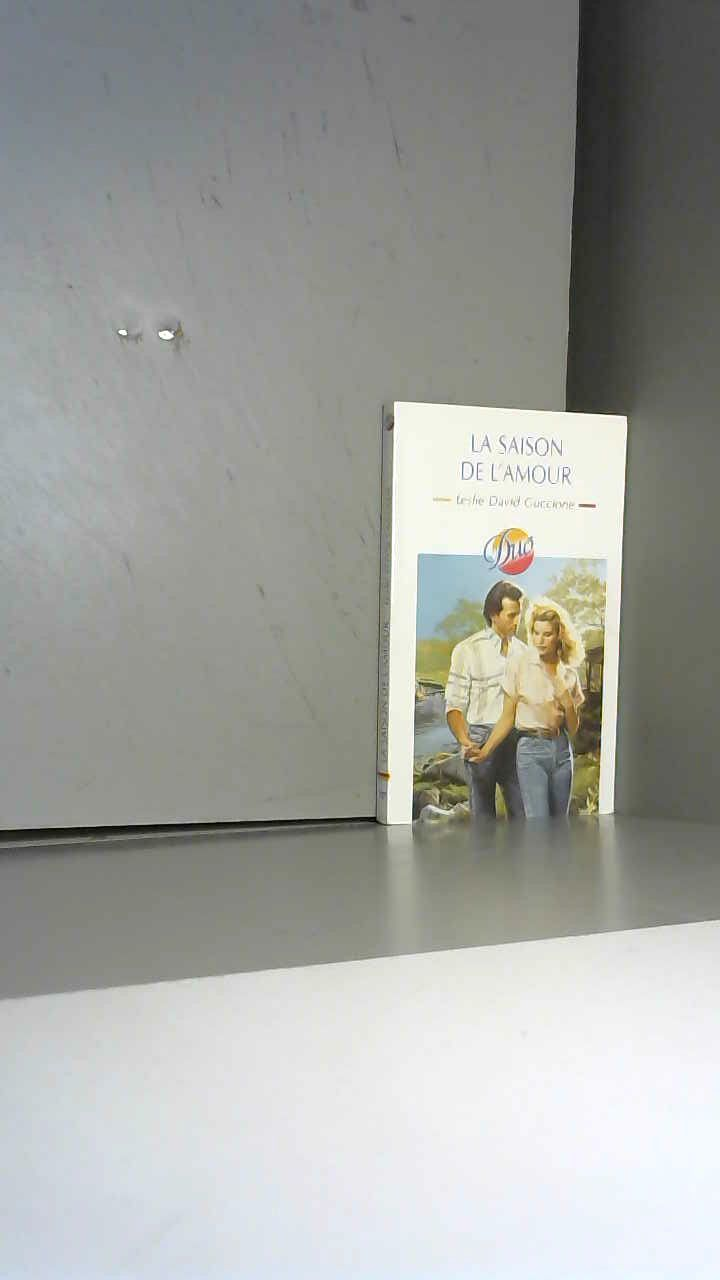book: (360, 380, 719, 914)
